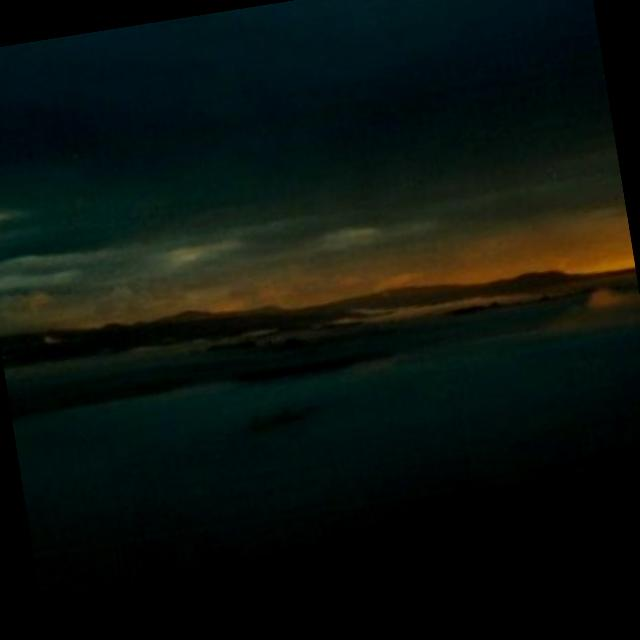nimbostratus: (0, 0, 626, 308)
